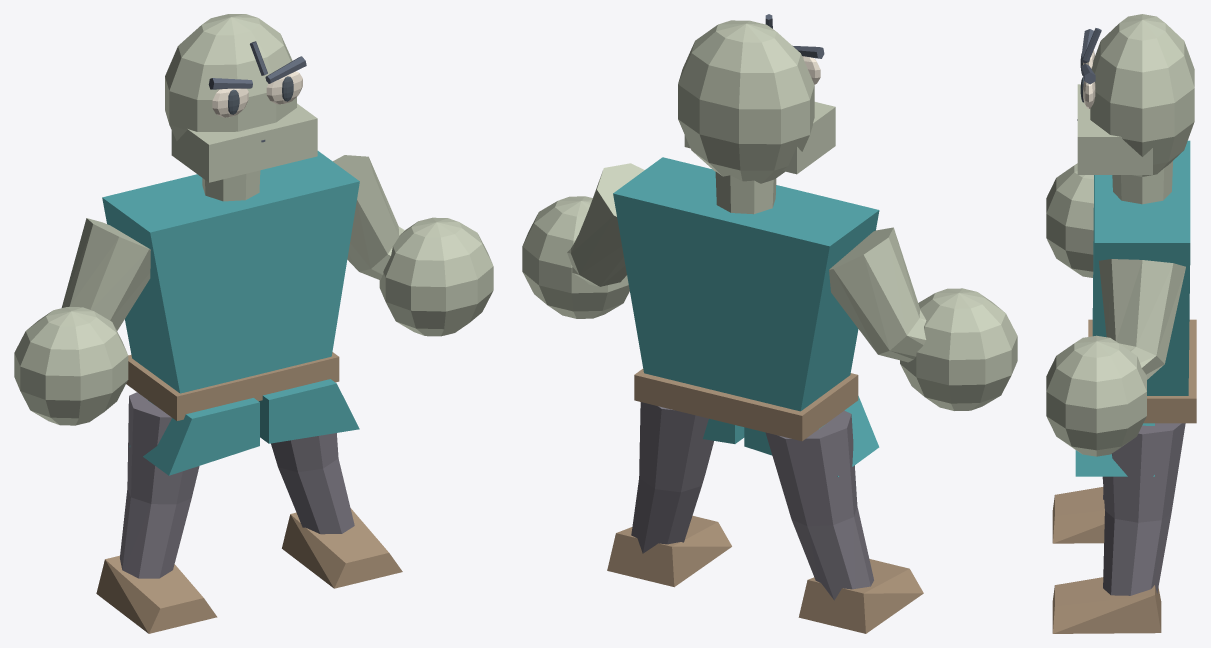
The model's file is zombie-brute.glb.
3 renders of one model, left to right at view 1: azimuth 30°, elevation 25°; view 2: azimuth 150°, elevation 25°; view 3: azimuth 270°, elevation 25°, orthographic. The views are drawn at different scales.
Visible parts, largest first — view 1: torso, oversized_fist-1, head, oversized_fist1, leg_-1, jaw, arm_-1, leg_1, tunic_hem_-1, belt, foot_-1, foot_1 (+4 smaller); view 2: torso, head, leg_-1, oversized_fist-1, leg_1, arm_-1, oversized_fist1, belt, foot_-1, foot_1, arm_1, neck (+3 smaller); view 3: head, torso, leg_1, oversized_fist1, arm_1, foot_1, oversized_fist-1, jaw, foot_-1, belt, neck, tunic_hem_1 (+2 smaller).
Part boxes in pixels (x1=…): torso: x1=102, y1=151, x2=359, y2=393; oversized_fist-1: x1=14, y1=307, x2=128, y2=425; head: x1=165, y1=14, x2=296, y2=140; oversized_fist1: x1=379, y1=217, x2=493, y2=336; leg_-1: x1=120, y1=392, x2=199, y2=578; jaw: x1=171, y1=103, x2=317, y2=182; arm_-1: x1=61, y1=218, x2=150, y2=330; leg_1: x1=271, y1=433, x2=354, y2=534; tunic_hem_-1: x1=129, y1=398, x2=259, y2=475; belt: x1=126, y1=352, x2=339, y2=420; foot_-1: x1=96, y1=555, x2=217, y2=633; foot_1: x1=282, y1=508, x2=402, y2=588; torso: x1=613, y1=157, x2=879, y2=411; head: x1=678, y1=20, x2=814, y2=183; leg_-1: x1=765, y1=410, x2=873, y2=600; oversized_fist-1: x1=900, y1=288, x2=1017, y2=410; leg_1: x1=631, y1=402, x2=713, y2=553; arm_-1: x1=829, y1=227, x2=926, y2=362; oversized_fist1: x1=522, y1=196, x2=629, y2=318; belt: x1=634, y1=368, x2=858, y2=441; foot_-1: x1=798, y1=559, x2=923, y2=633; foot_1: x1=607, y1=515, x2=731, y2=587; arm_1: x1=567, y1=163, x2=644, y2=286; neck: x1=715, y1=171, x2=776, y2=214; head: x1=1090, y1=14, x2=1194, y2=176; torso: x1=1092, y1=140, x2=1190, y2=395; leg_1: x1=1102, y1=423, x2=1185, y2=595; oversized_fist1: x1=1046, y1=335, x2=1146, y2=456; arm_1: x1=1099, y1=259, x2=1185, y2=379; foot_1: x1=1052, y1=577, x2=1161, y2=633; oversized_fist-1: x1=1046, y1=163, x2=1093, y2=277; jaw: x1=1077, y1=84, x2=1152, y2=174; foot_-1: x1=1052, y1=487, x2=1104, y2=543; belt: x1=1088, y1=319, x2=1196, y2=423; neck: x1=1112, y1=161, x2=1172, y2=204; tunic_hem_1: x1=1075, y1=423, x2=1154, y2=476.
Size of the model in its own units: 1.59 by 1.8 by 0.4443.
